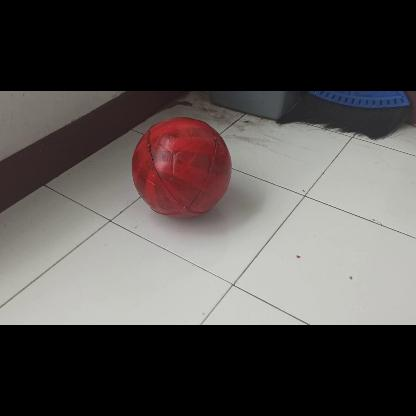red_ball: (132, 116, 235, 218)
